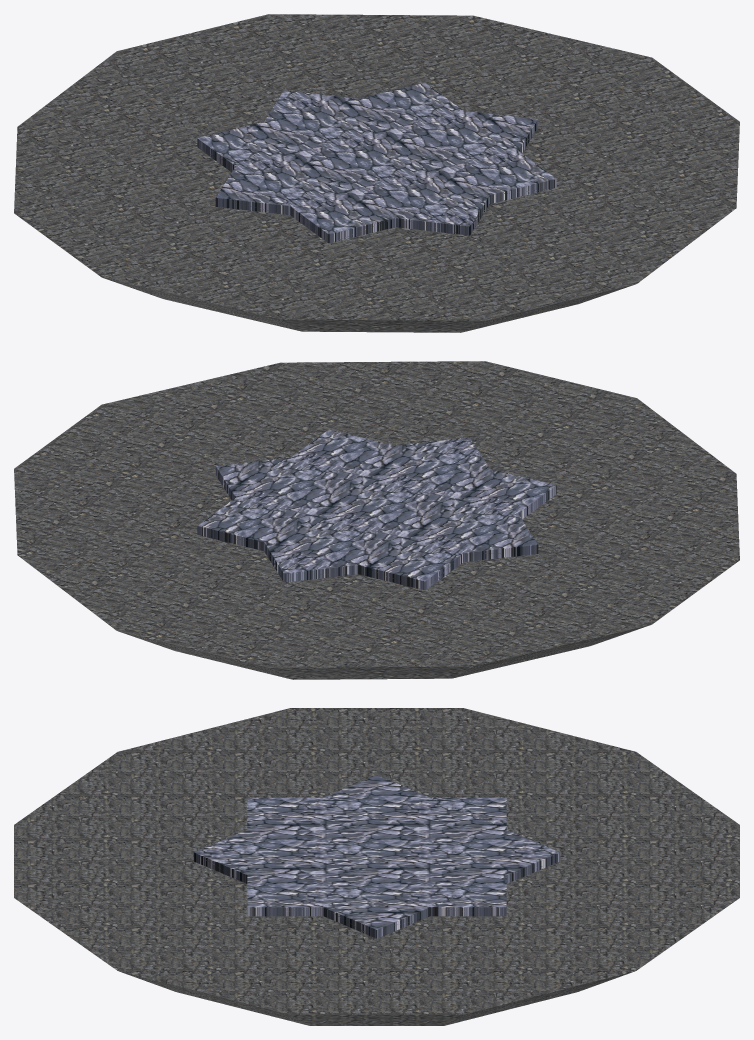
Rendered from mapparts3.fbx.
3 views of the same model, one above another, from view 1: azimuth 30°, elevation 25°; view 2: azimuth 150°, elevation 25°; view 3: azimuth 270°, elevation 25° (orthographic).
Parts seen in each view (by area): view 1: Box001, Box002; view 2: Box001, Box002; view 3: Box001, Box002.
Part boxes in pixels (<box>): Box001: <box>14,14,739,332</box>; Box002: <box>197,82,556,243</box>; Box001: <box>14,361,739,679</box>; Box002: <box>197,429,556,590</box>; Box001: <box>14,708,739,1025</box>; Box002: <box>193,775,560,938</box>.
Bounding box in the file's own units: 700 × 91.23 × 700.
2 materials, 2 textured.
